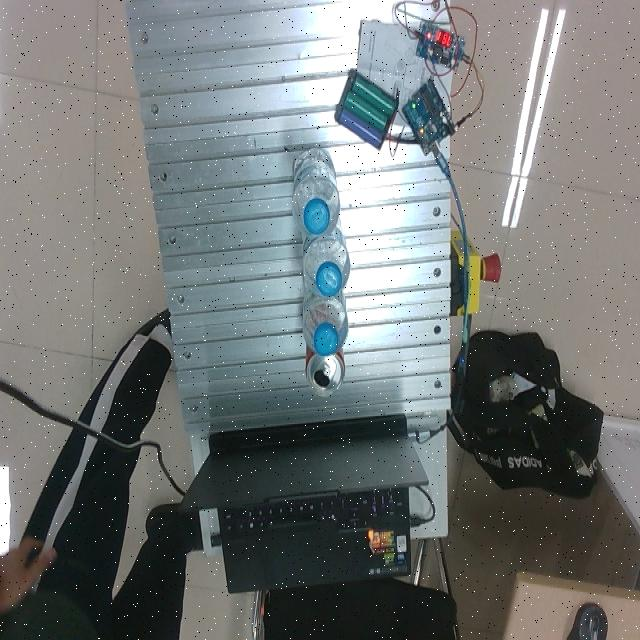coca: (304, 344, 346, 397)
lavie: (291, 151, 341, 241), (302, 230, 350, 298), (302, 290, 349, 358)
